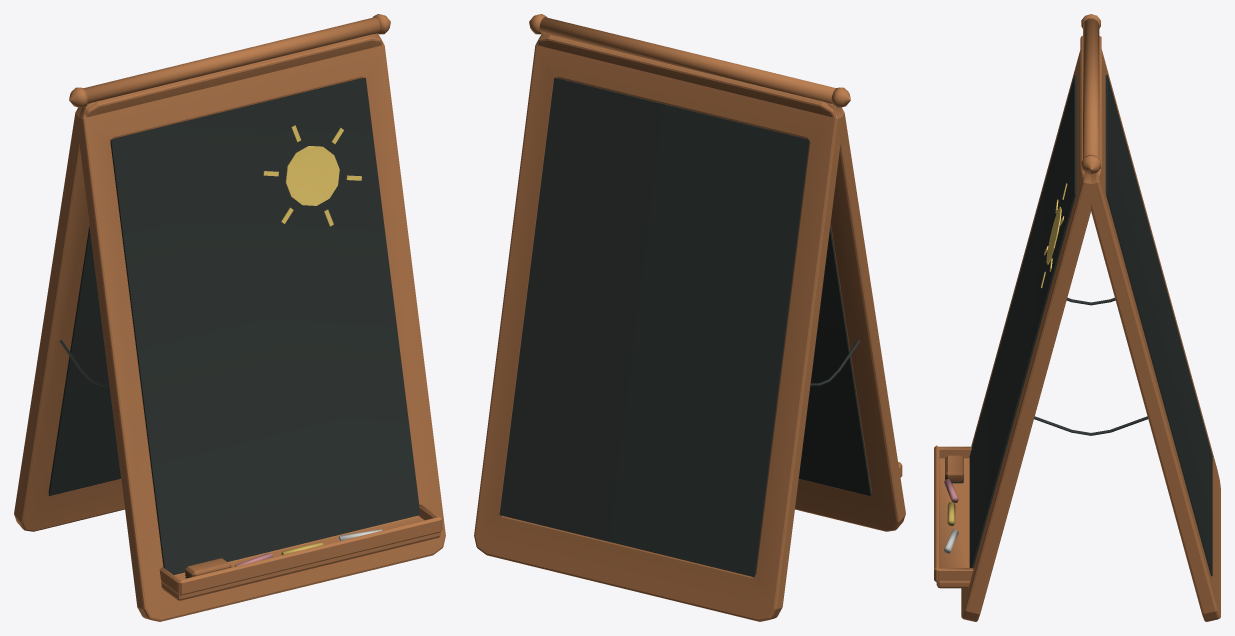
The model's file is kidsChalkboard.glb.
3 renders of one model, left to right at view 1: azimuth 30°, elevation 25°; view 2: azimuth 150°, elevation 25°; view 3: azimuth 270°, elevation 25°, orthographic. The views are drawn at different scales.
Parts seen in each view (by area): view 1: body; view 2: body; view 3: body.
Part boxes in pixels (x1,y1,x2,y2): body: (14,14,445,621); body: (474,14,905,621); body: (934,14,1220,621).
Bounding box in the file's own units: 0.66 × 0.9623 × 0.5297.
